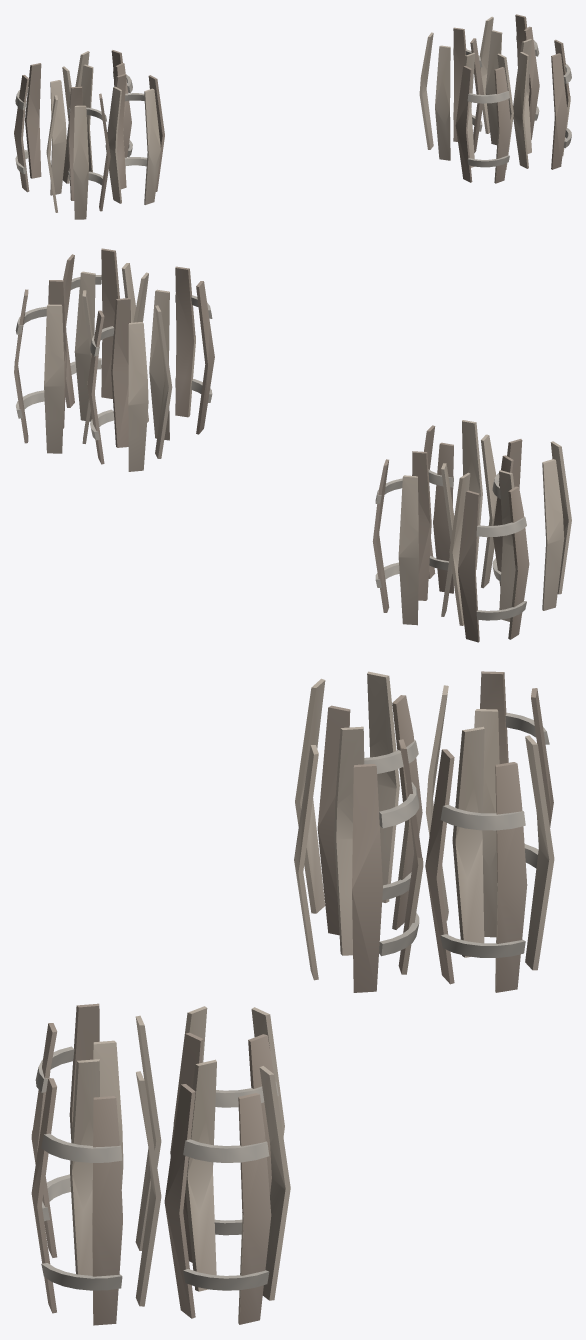
Rendered from barrel-fragments.glb.
The picture shows the model from 3 angles, top to bottom: view 1: azimuth 30°, elevation 25°; view 2: azimuth 150°, elevation 25°; view 3: azimuth 270°, elevation 25°; orthographic projection. The views are drawn at different scales.
Parts seen in each view (by area): view 1: barrel-debris:1:stave-3, barrel-debris:4:stave-3, barrel-debris:0:stave-2, barrel-debris:3:stave-3, barrel-debris:0:stave-0, barrel-debris:7:stave-2, barrel-debris:7:stave-3, barrel-debris:5:stave-1, barrel-debris:5:stave-2, barrel-debris:3:stave-0, barrel-debris:6:stave-3, barrel-debris:4:stave-1 (+20 smaller); view 2: barrel-debris:6:stave-0, barrel-debris:4:stave-0, barrel-debris:2:stave-0, barrel-debris:5:stave-1, barrel-debris:1:stave-0, barrel-debris:0:stave-2, barrel-debris:4:stave-2, barrel-debris:7:stave-0, barrel-debris:2:stave-2, barrel-debris:5:stave-3, barrel-debris:7:stave-2, barrel-debris:3:stave-1 (+17 smaller); view 3: barrel-debris:3:stave-2, barrel-debris:7:stave-1, barrel-debris:2:stave-1, barrel-debris:2:stave-3, barrel-debris:6:stave-1, barrel-debris:6:stave-3, barrel-debris:7:stave-3, barrel-debris:3:stave-0, barrel-debris:6:stave-2, barrel-debris:1:stave-0, barrel-debris:1:stave-2, barrel-debris:6:stave-0 (+26 smaller).
Part boxes in pixels (x1=…): barrel-debris:1:stave-3: x1=73, y1=105, x2=88, y2=219; barrel-debris:4:stave-3: x1=435, y1=45, x2=450, y2=160; barrel-debris:0:stave-2: x1=25, y1=63, x2=41, y2=178; barrel-debris:3:stave-3: x1=144, y1=88, x2=160, y2=204; barrel-debris:0:stave-0: x1=50, y1=80, x2=66, y2=195; barrel-debris:7:stave-2: x1=551, y1=53, x2=567, y2=169; barrel-debris:7:stave-3: x1=513, y1=52, x2=528, y2=168; barrel-debris:5:stave-1: x1=494, y1=67, x2=511, y2=183; barrel-debris:5:stave-2: x1=455, y1=66, x2=472, y2=182; barrel-debris:3:stave-0: x1=105, y1=86, x2=121, y2=203; barrel-debris:6:stave-3: x1=485, y1=30, x2=502, y2=145; barrel-debris:4:stave-1: x1=453, y1=27, x2=466, y2=141; barrel-debris:6:stave-0: x1=44, y1=304, x2=64, y2=453; barrel-debris:4:stave-0: x1=128, y1=322, x2=148, y2=471; barrel-debris:2:stave-0: x1=398, y1=475, x2=418, y2=625; barrel-debris:5:stave-1: x1=175, y1=266, x2=195, y2=417; barrel-debris:1:stave-0: x1=542, y1=459, x2=564, y2=610; barrel-debris:0:stave-2: x1=458, y1=490, x2=479, y2=642; barrel-debris:4:stave-2: x1=111, y1=298, x2=130, y2=447; barrel-debris:7:stave-0: x1=74, y1=271, x2=95, y2=421; barrel-debris:2:stave-2: x1=412, y1=451, x2=431, y2=600; barrel-debris:5:stave-3: x1=149, y1=289, x2=169, y2=440; barrel-debris:7:stave-2: x1=101, y1=248, x2=119, y2=398; barrel-debris:3:stave-1: x1=433, y1=442, x2=453, y2=593; barrel-debris:3:stave-2: x1=352, y1=764, x2=382, y2=992; barrel-debris:7:stave-1: x1=92, y1=1096, x2=122, y2=1325; barrel-debris:2:stave-1: x1=495, y1=762, x2=527, y2=992; barrel-debris:2:stave-3: x1=452, y1=726, x2=484, y2=957; barrel-debris:6:stave-1: x1=238, y1=1093, x2=271, y2=1324; barrel-debris:6:stave-3: x1=185, y1=1059, x2=216, y2=1291; barrel-debris:7:stave-3: x1=70, y1=1059, x2=99, y2=1275; barrel-debris:3:stave-0: x1=334, y1=726, x2=364, y2=955; barrel-debris:6:stave-2: x1=164, y1=1084, x2=195, y2=1318; barrel-debris:1:stave-0: x1=367, y1=671, x2=399, y2=902; barrel-debris:1:stave-2: x1=317, y1=705, x2=350, y2=935; barrel-debris:6:stave-0: x1=259, y1=1066, x2=290, y2=1300.
Bounding box in the file's own units: 3.99 × 0.95 × 1.99.
